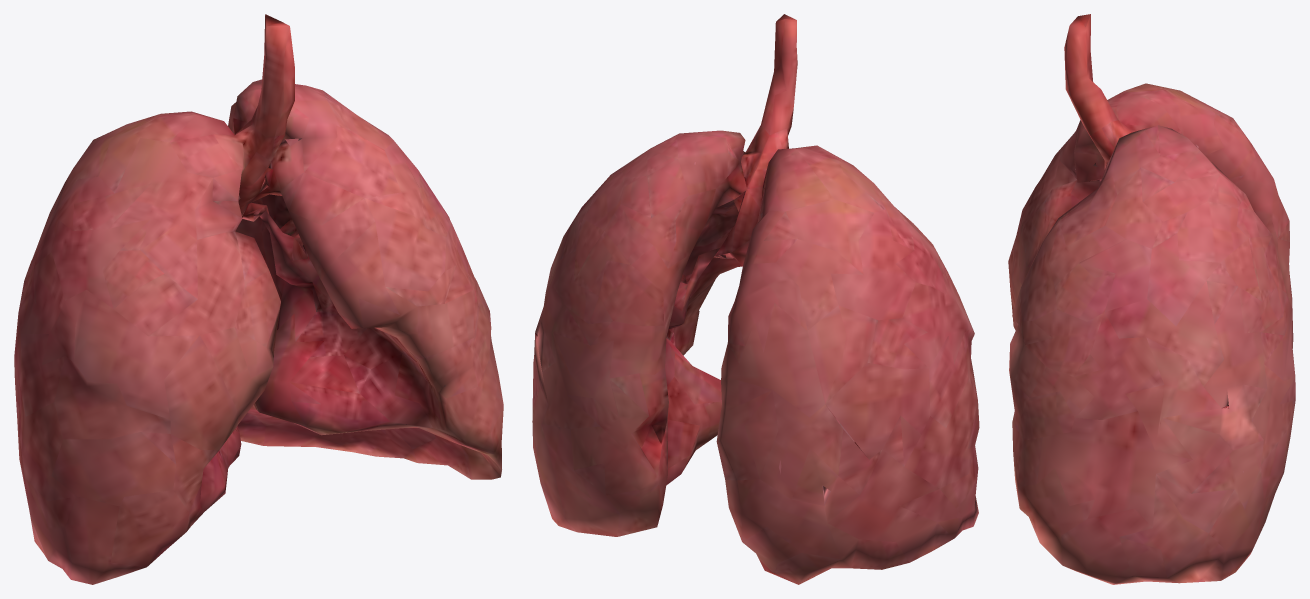
Rendered from lungs-model.glb.
3 renders of one model, left to right at view 1: azimuth 30°, elevation 25°; view 2: azimuth 150°, elevation 25°; view 3: azimuth 270°, elevation 25°, orthographic. The views are drawn at different scales.
Parts seen in each view (by area): view 1: Lungs; view 2: Lungs; view 3: Lungs.
Boxes of the visible parts, bbox=[...] form: Lungs: bbox=[14, 14, 503, 584]; Lungs: bbox=[532, 14, 979, 584]; Lungs: bbox=[1008, 14, 1295, 584].
Bounding box in the file's own units: 0.1729 × 0.1988 × 0.1065.
Materials: 1 (1 with a texture image).
